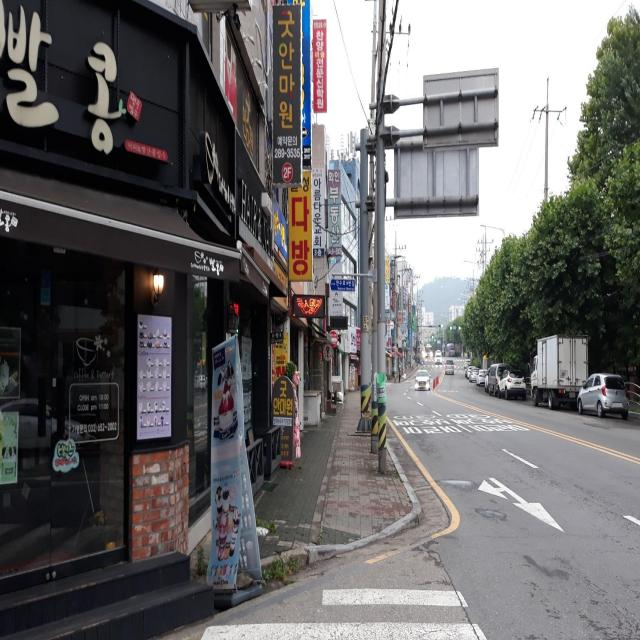횡단보도: (199, 586, 487, 640)
